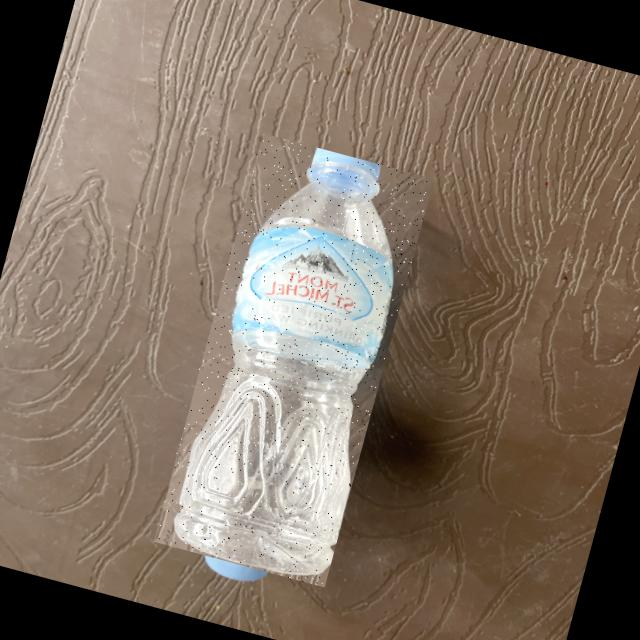REJECT: (152, 131, 433, 586)
